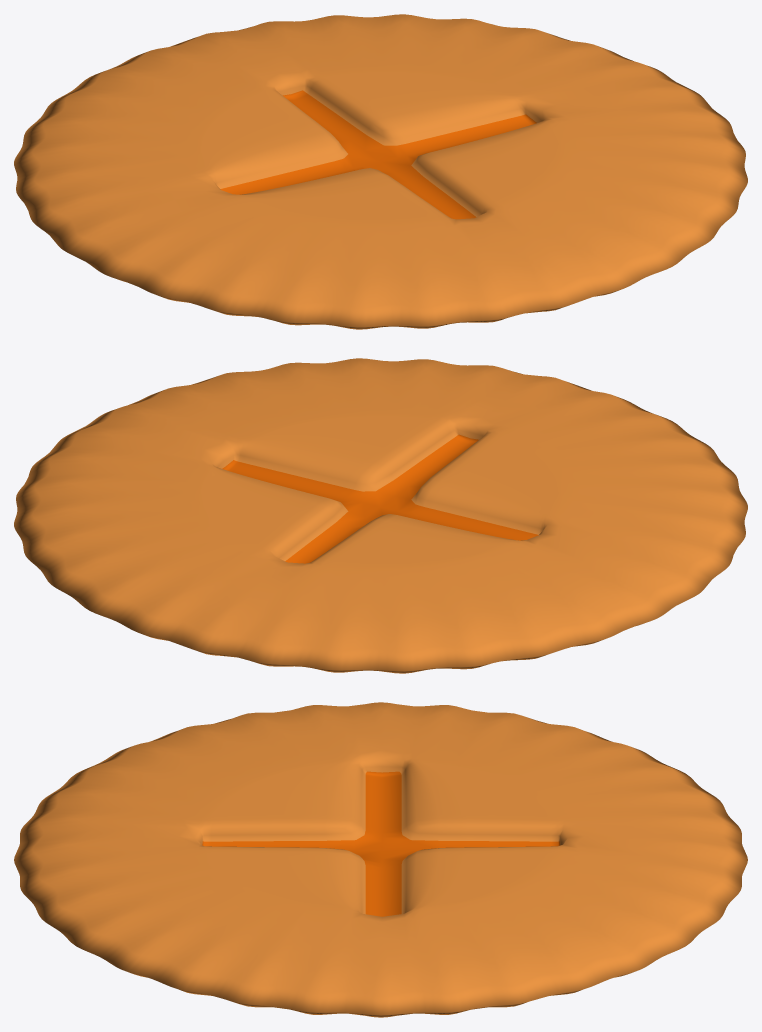
The model's file is CommunionWafers.fbx.
The picture shows the model from 3 angles, top to bottom: view 1: azimuth 30°, elevation 25°; view 2: azimuth 150°, elevation 25°; view 3: azimuth 270°, elevation 25°; orthographic projection.
Parts seen in each view (by area): view 1: Cylinder.007; view 2: Cylinder.007; view 3: Cylinder.007.
Part boxes in pixels (box(x1,y1,x2,y2)): Cylinder.007: box(14, 14, 747, 329); Cylinder.007: box(14, 358, 747, 673); Cylinder.007: box(14, 702, 747, 1017).
Bounding box in the file's own units: 13.13 × 0.9832 × 13.13.
